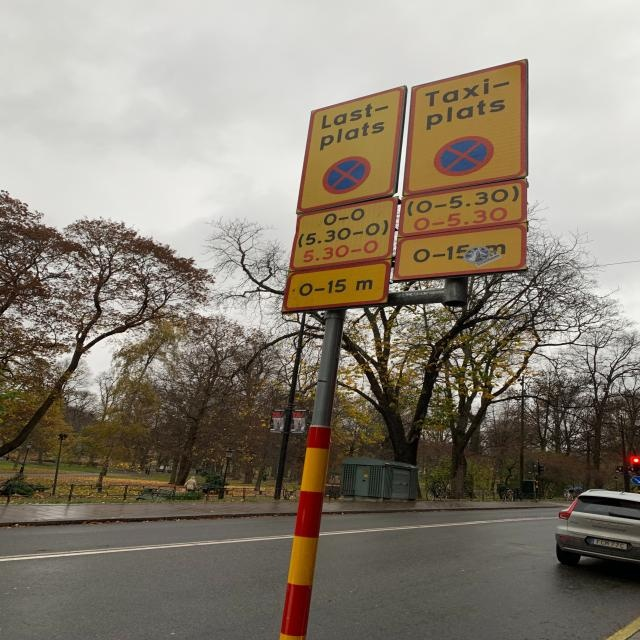avstignnigsplats: (402, 58, 528, 196), (297, 87, 407, 213)
